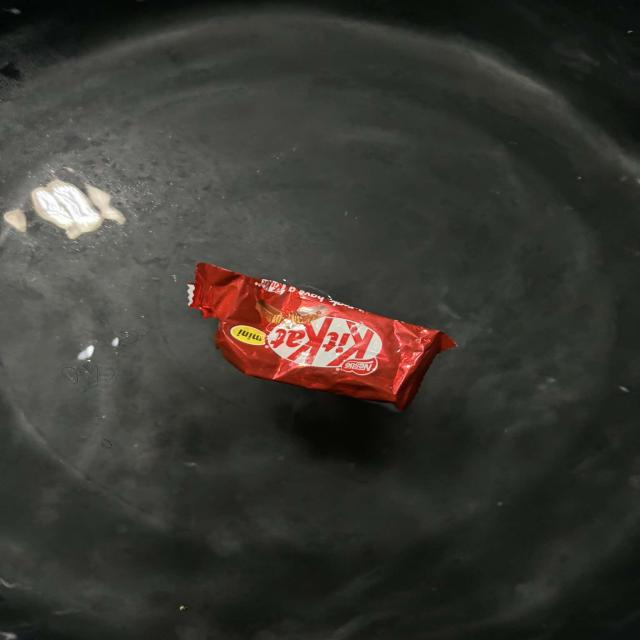Plastic Wrapper: (188, 263, 456, 411)
